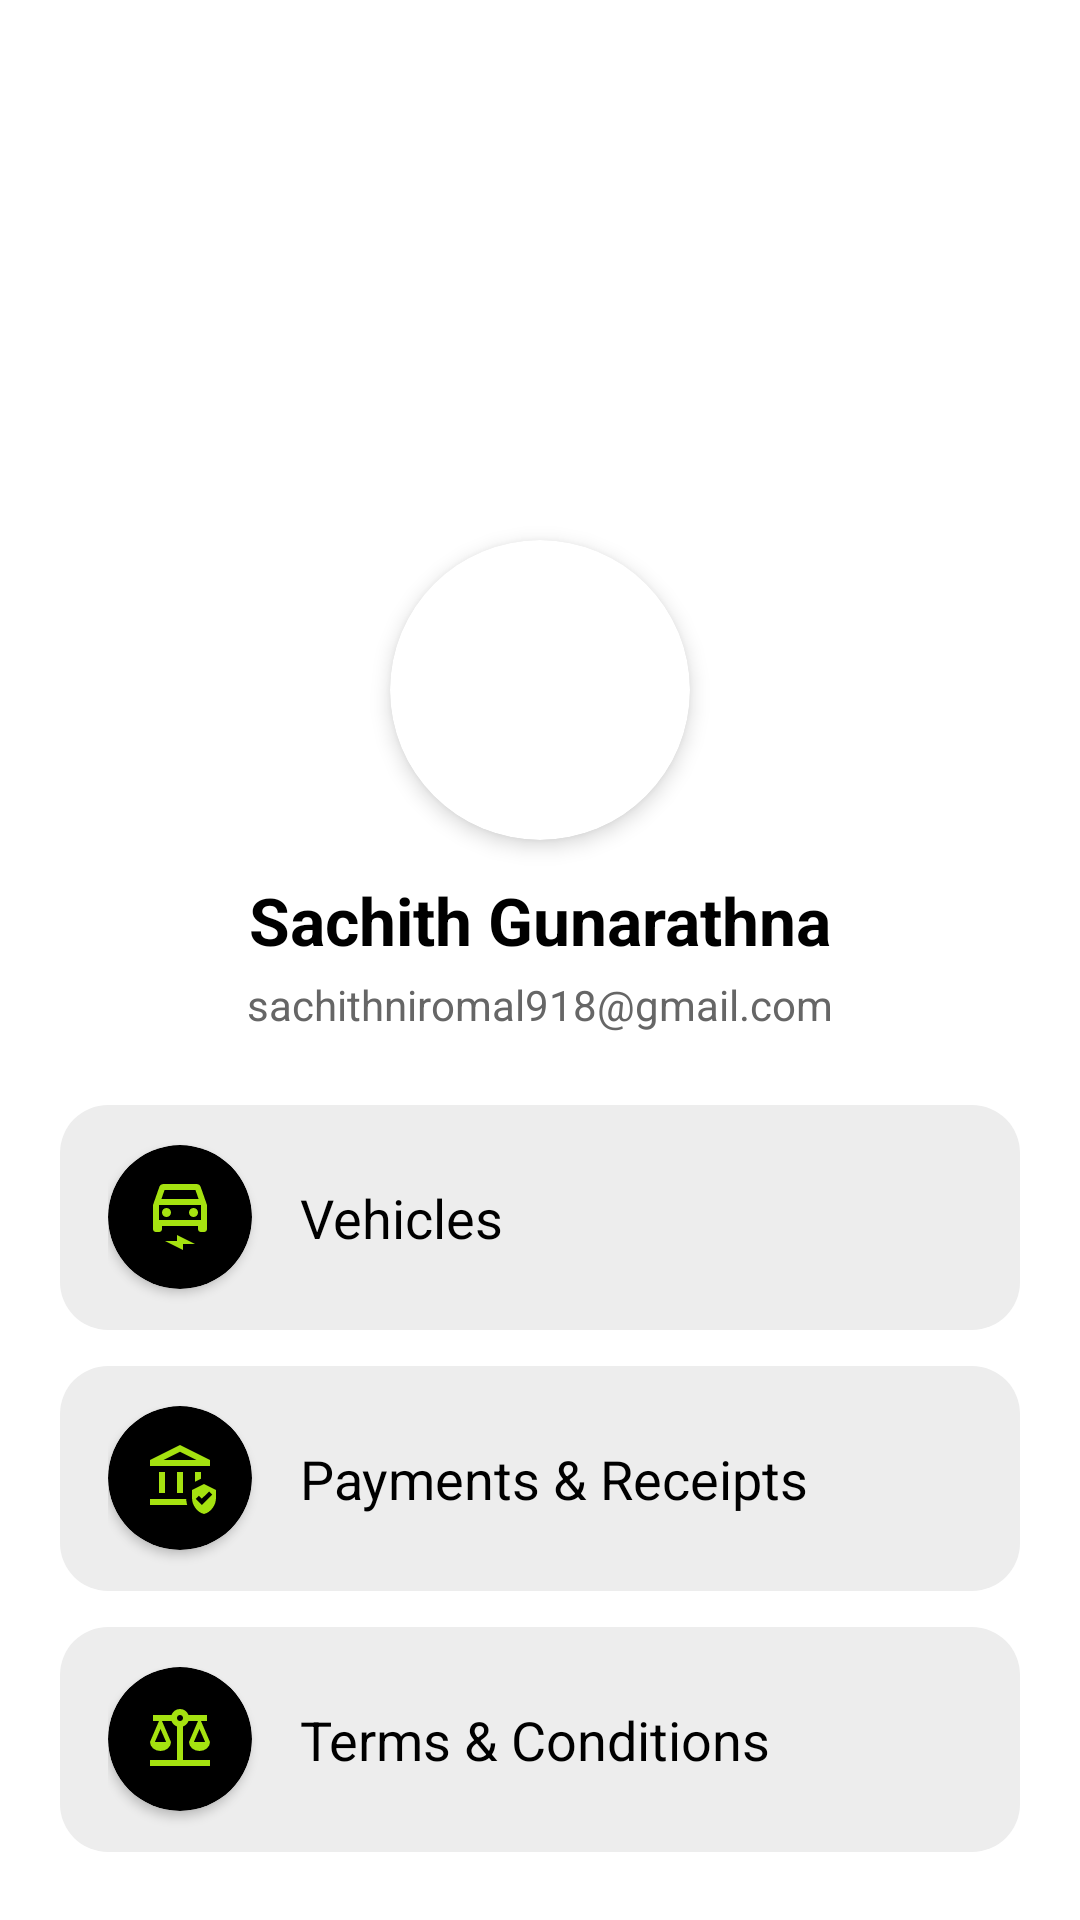

Icon click points for this 1080px×1920px phone screenshot, format (x=x, y=y):
assured workload: (x=183, y=1479)
balance: (x=180, y=1737)
electric car: (x=180, y=1217)
